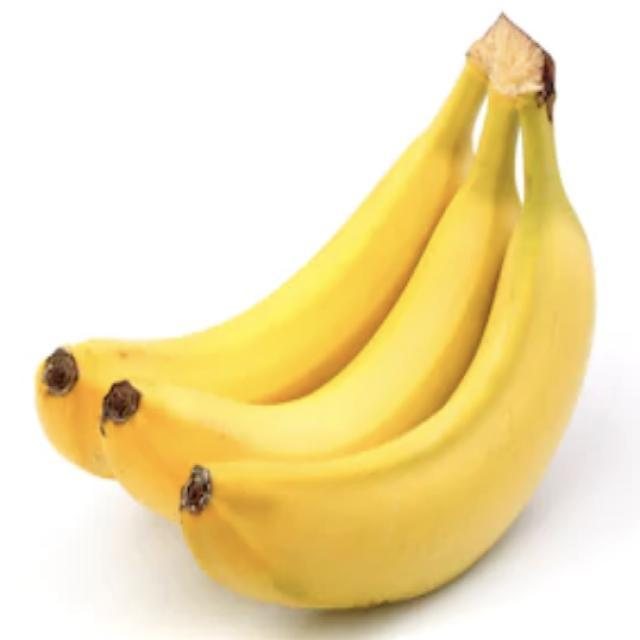Banana: (34, 10, 596, 611)
